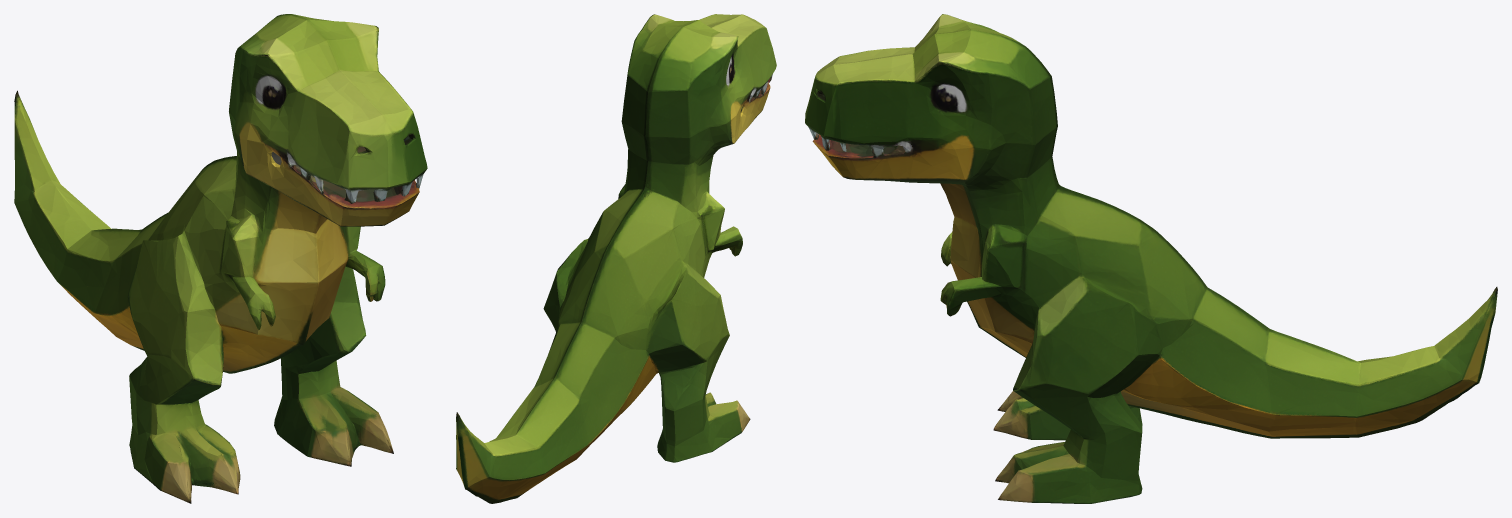
File: model-pick-2.glb
The picture shows the model from 3 angles, left to right: view 1: azimuth 30°, elevation 25°; view 2: azimuth 150°, elevation 25°; view 3: azimuth 270°, elevation 25°; orthographic projection. The views are drawn at different scales.
Visible parts, largest first — view 1: geometry_0; view 2: geometry_0; view 3: geometry_0.
Boxes of the visible parts, box(x1,y1,x2,y2) form: geometry_0: box(14, 14, 427, 503); geometry_0: box(456, 14, 776, 503); geometry_0: box(805, 14, 1497, 503).
Bounding box in the file's own units: 0.3367 × 0.6818 × 1.
Materials: 1 (1 with a texture image).
